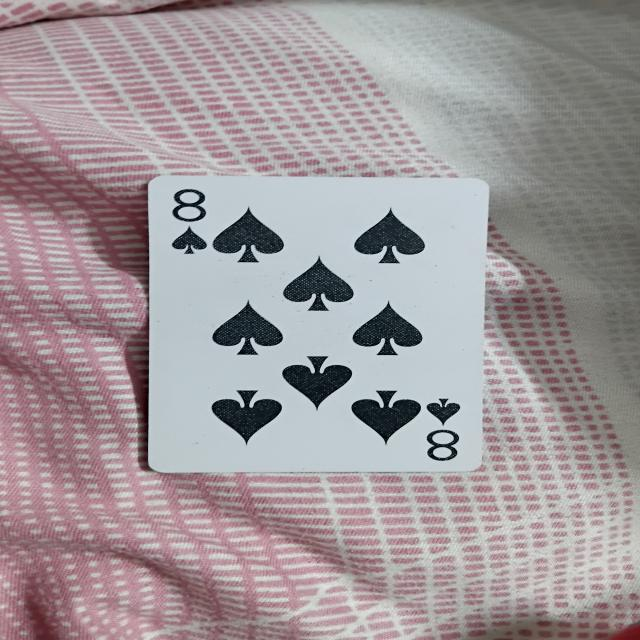8S: (148, 172, 502, 483)
